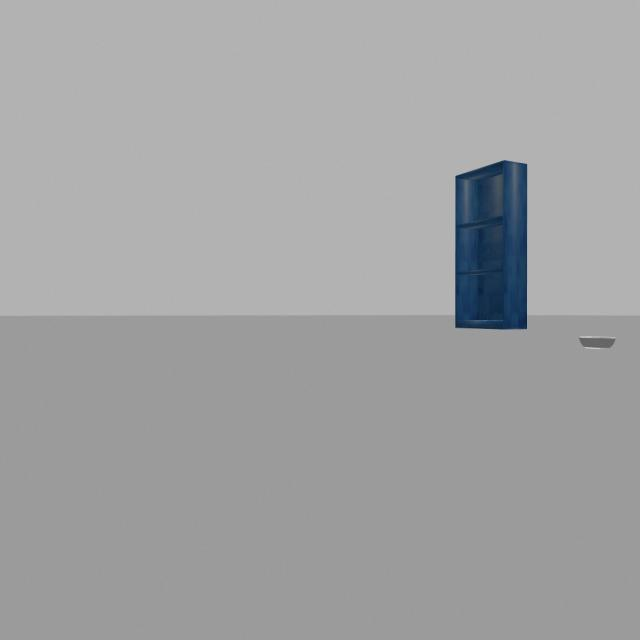bowl: (578, 326, 618, 358)
shelf: (438, 122, 542, 355)
